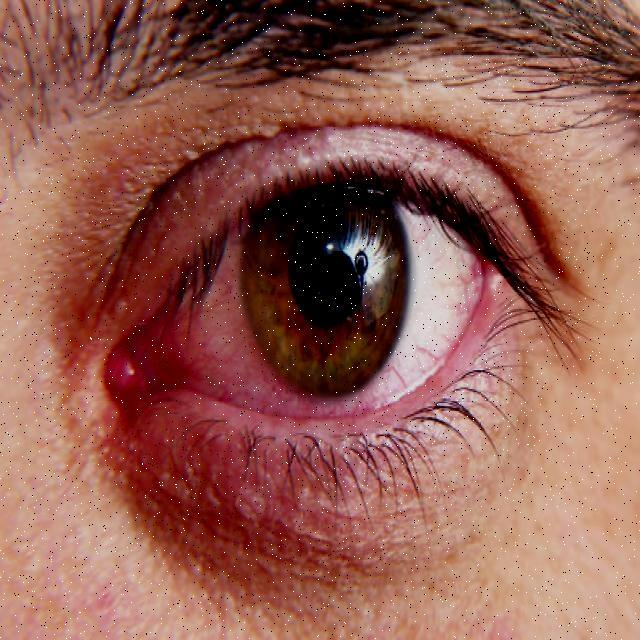Conjunctivitis: (88, 180, 518, 435)
